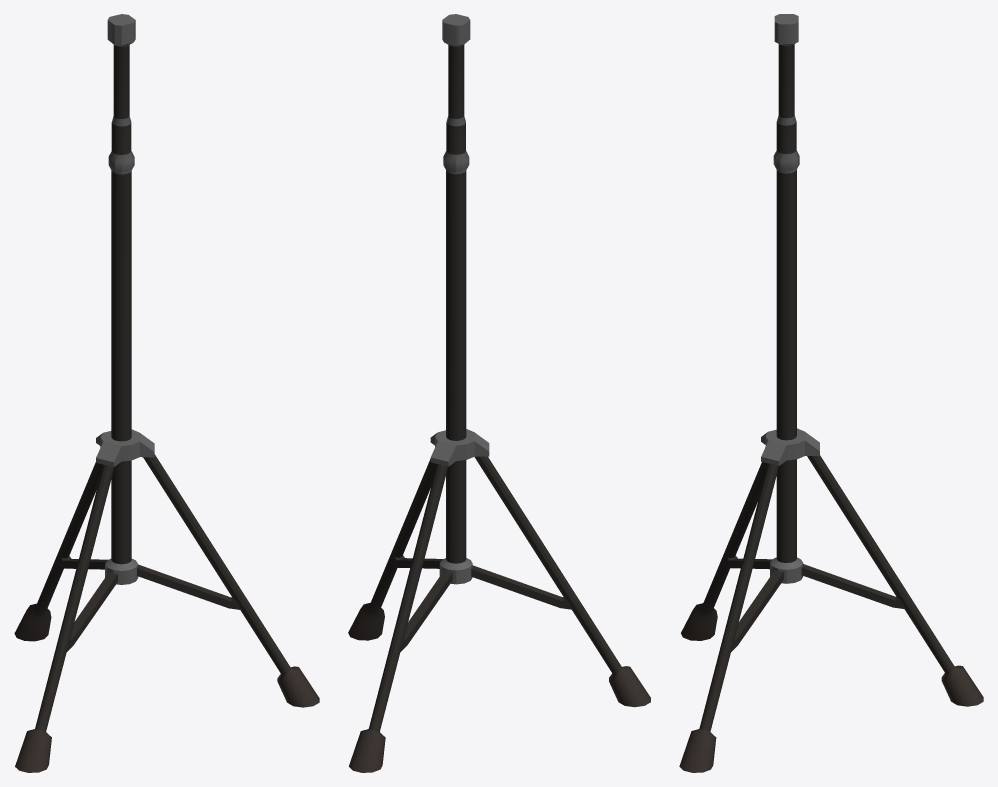
File: GYM_Tripod_2.fbx
The picture shows the model from 3 angles, left to right: view 1: azimuth 30°, elevation 25°; view 2: azimuth 150°, elevation 25°; view 3: azimuth 270°, elevation 25°; orthographic projection.
Parts seen in each view (by area): view 1: pCylinder70; view 2: pCylinder70; view 3: pCylinder70.
Boxes of the visible parts, box(x1,y1,x2,y2) form: pCylinder70: box(14, 14, 319, 772); pCylinder70: box(348, 14, 650, 772); pCylinder70: box(679, 14, 983, 772).
Size of the model in its own units: 1.37 by 2.98 by 1.21.
Materials: 3 (1 with a texture image).
